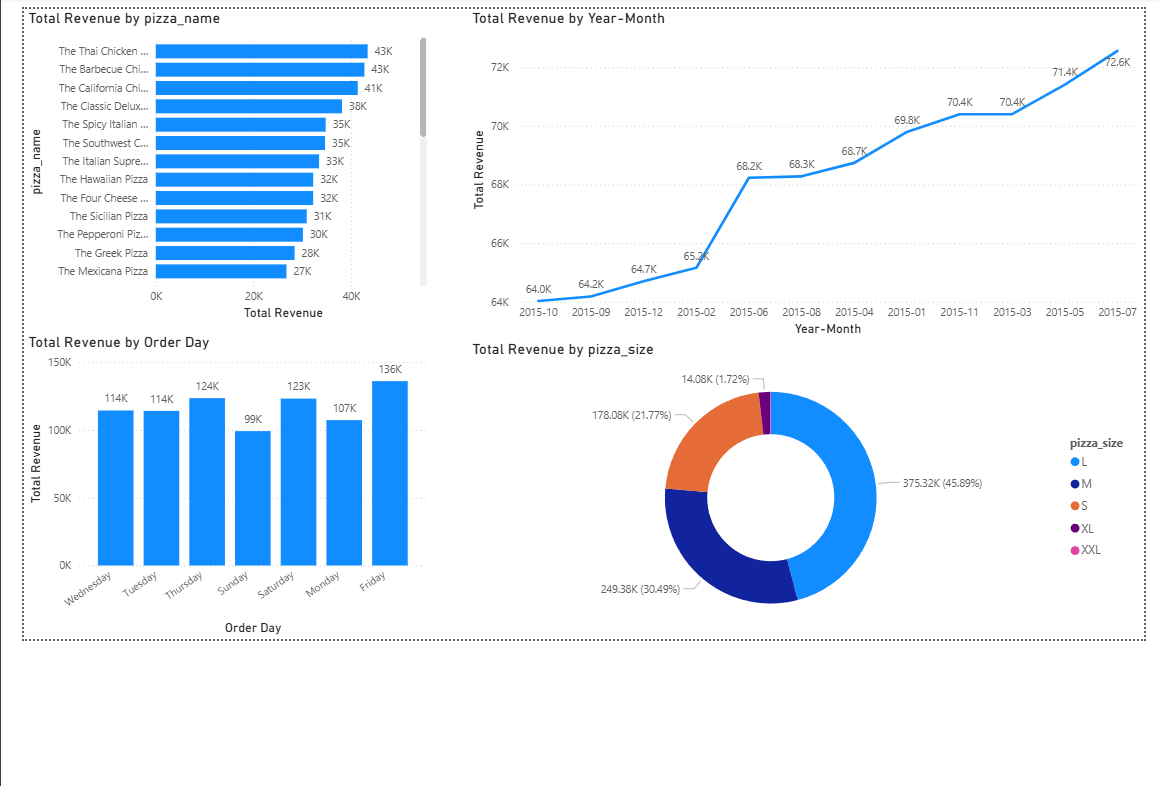

This screenshot's page, from the dashboard's own definition file:
{"tool":"powerbi","page":{"name":"Page 1","canvas":[1280,720],"ordinal":0},"visuals":[{"type":"barChart","fields":{"Category":["pizza_sales.pizza_name"],"Y":["Table1.Total Revenue"]},"box":[0,0,465.7,360],"z":0},{"type":"lineChart","fields":{"Category":["pizza_sales.Year-Month"],"Y":["Table1.Total Revenue"]},"box":[507.1,0,772.9,378.6],"z":1000},{"type":"clusteredColumnChart","fields":{"Category":["pizza_sales.Order Day"],"Y":["Table1.Total Revenue"]},"box":[0,370,465.7,350],"z":2000},{"type":"donutChart","fields":{"Category":["pizza_sales.pizza_size"],"Y":["Table1.Total Revenue"]},"box":[507,379,773,341],"z":3000}]}

Visuals, with their boxes on the page's 1280x720 design canvas (x1, y1, x2, y2). These are canvas units, not pixel positions in the 1159x786 screenshot, which may show the page scaled, cropped or inside an application window:
barChart - pizza_sales.pizza_name x Table1.Total Revenue: 0/0/466/360
lineChart - pizza_sales.Year-Month x Table1.Total Revenue: 507/0/1280/379
clusteredColumnChart - pizza_sales.Order Day x Table1.Total Revenue: 0/370/466/720
donutChart - pizza_sales.pizza_size x Table1.Total Revenue: 507/379/1280/720
